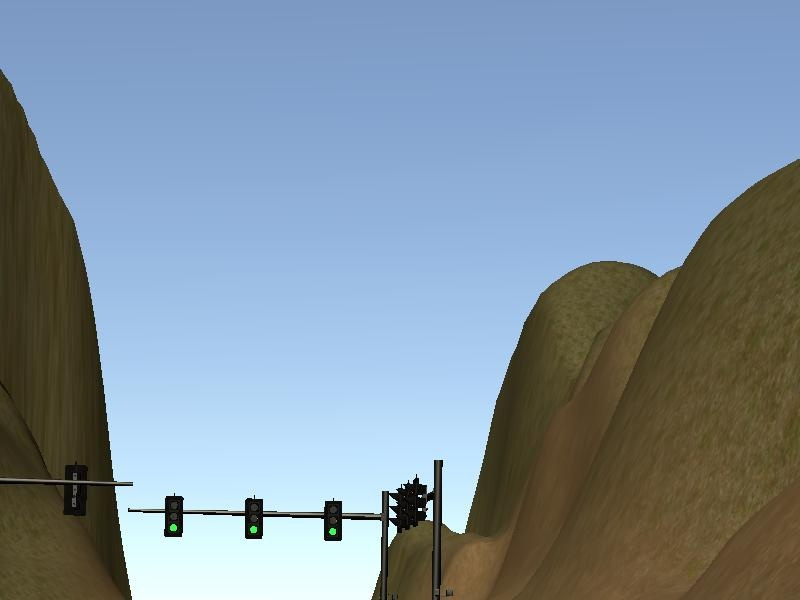green: (160, 493, 186, 541), (322, 502, 342, 540), (245, 499, 263, 540)
